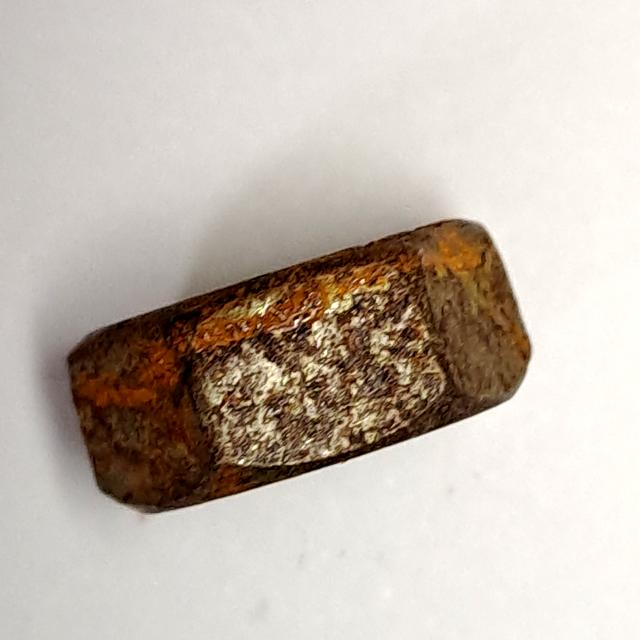Side_Rust: (59, 212, 553, 527)
